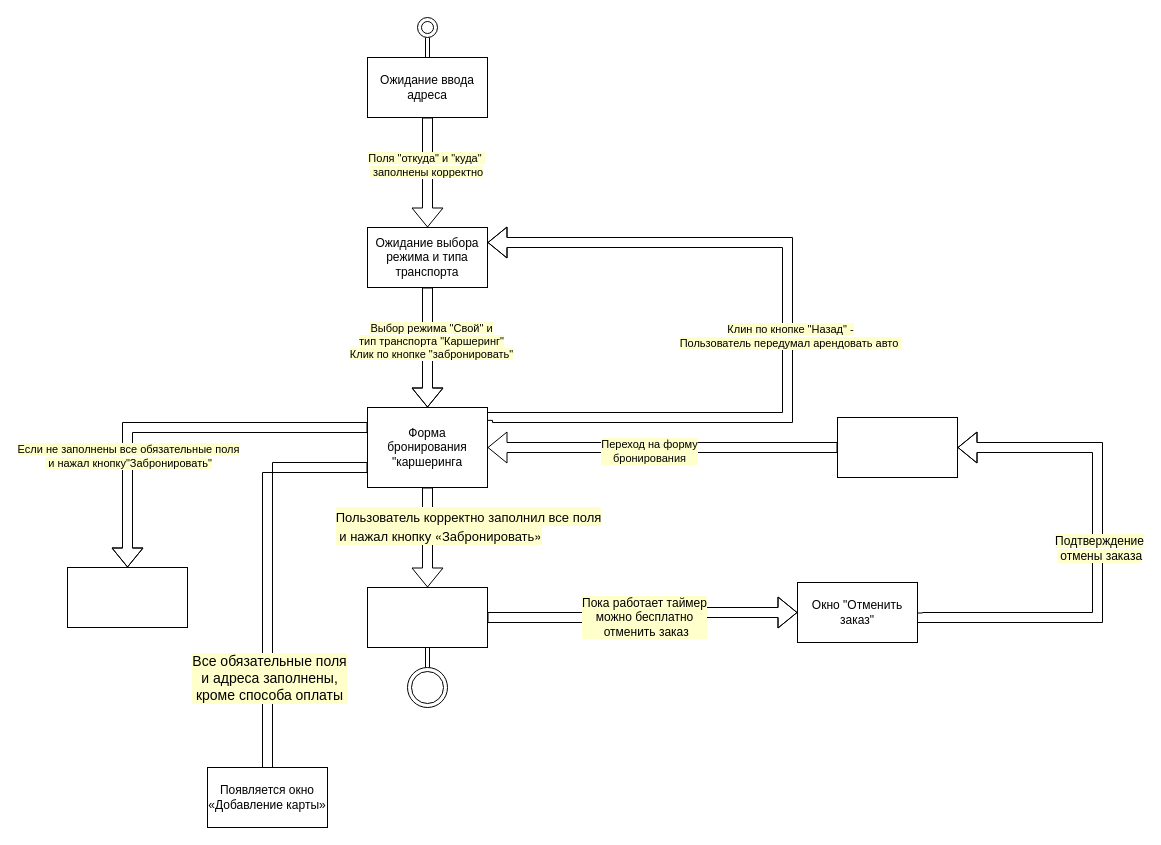
The diagram is 1161 pixels wide and 845 high, and some of its shapes have lost their labels. The shapes that lost their labels are listed below. From the top down, each one's centre as x and y in pixels, then its label:
the point at 897,447: Окно "Бронь отменена"
the point at 127,597: Появляется окно «Добавление прав»
the point at 427,617: Отобразиться окно с заголовком "Машина забронирована"
